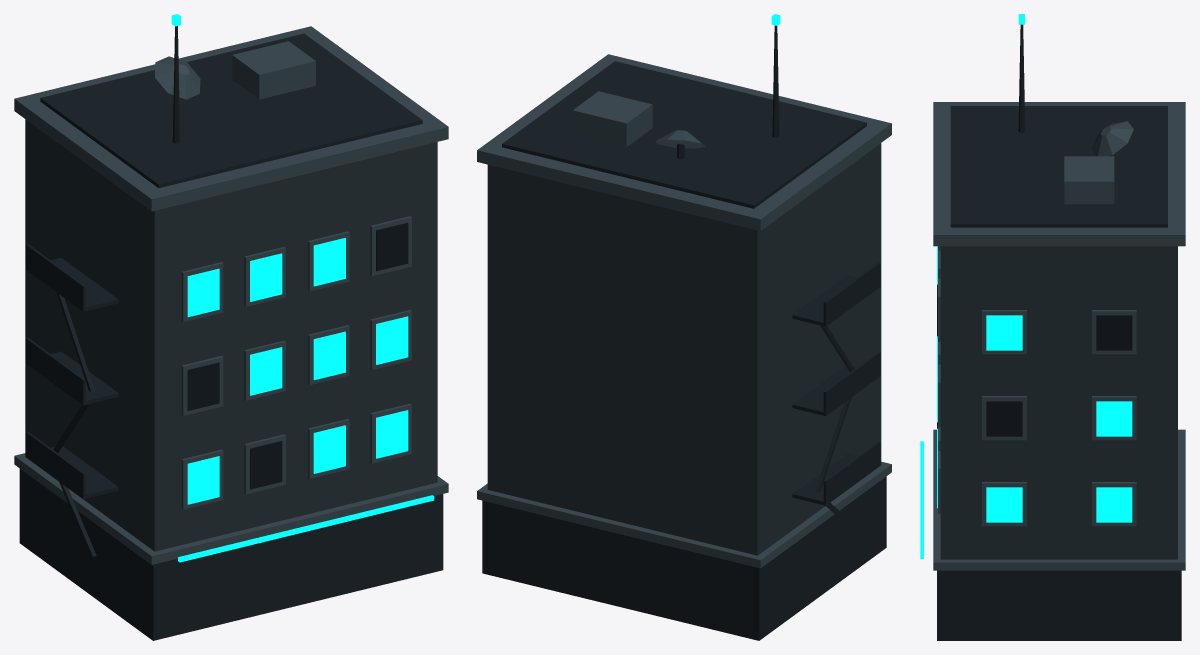
The model's file is edificio_a.glb.
The picture shows the model from 3 angles, left to right: view 1: azimuth 30°, elevation 25°; view 2: azimuth 150°, elevation 25°; view 3: azimuth 270°, elevation 25°; orthographic projection. The views are drawn at different scales.
Visible parts, largest first — view 1: Edificio_A; view 2: Edificio_A; view 3: Edificio_A.
Boxes of the visible parts, x1=… form: Edificio_A: x1=14, y1=14, x2=448, y2=640; Edificio_A: x1=477, y1=14, x2=891, y2=640; Edificio_A: x1=920, y1=14, x2=1185, y2=640.
Bounding box in the file's own units: 13.8 × 23.27 × 10.61.
